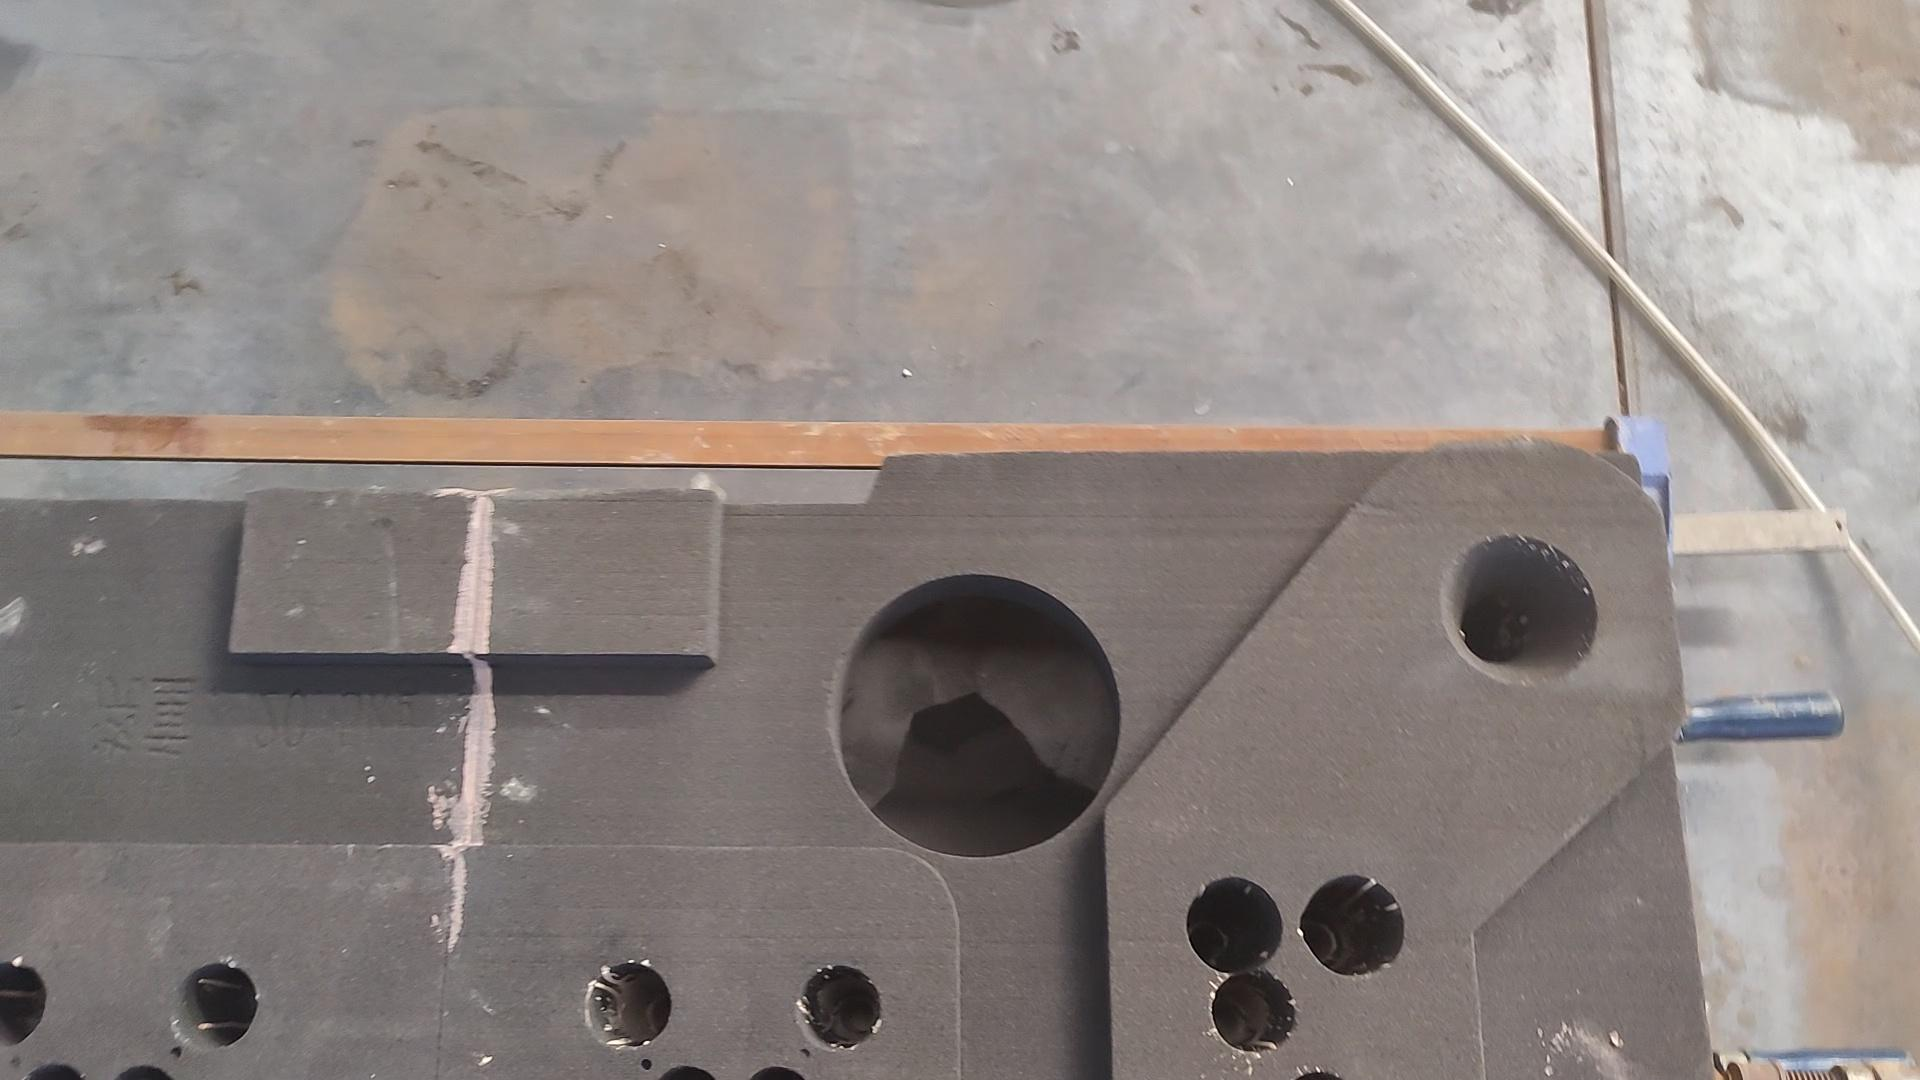pouring hole: (1440, 531, 1598, 686)
